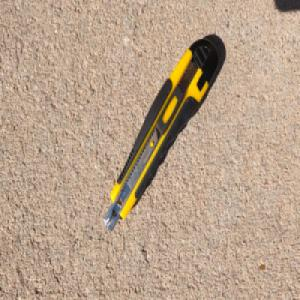Cutter: (103, 36, 220, 233)
